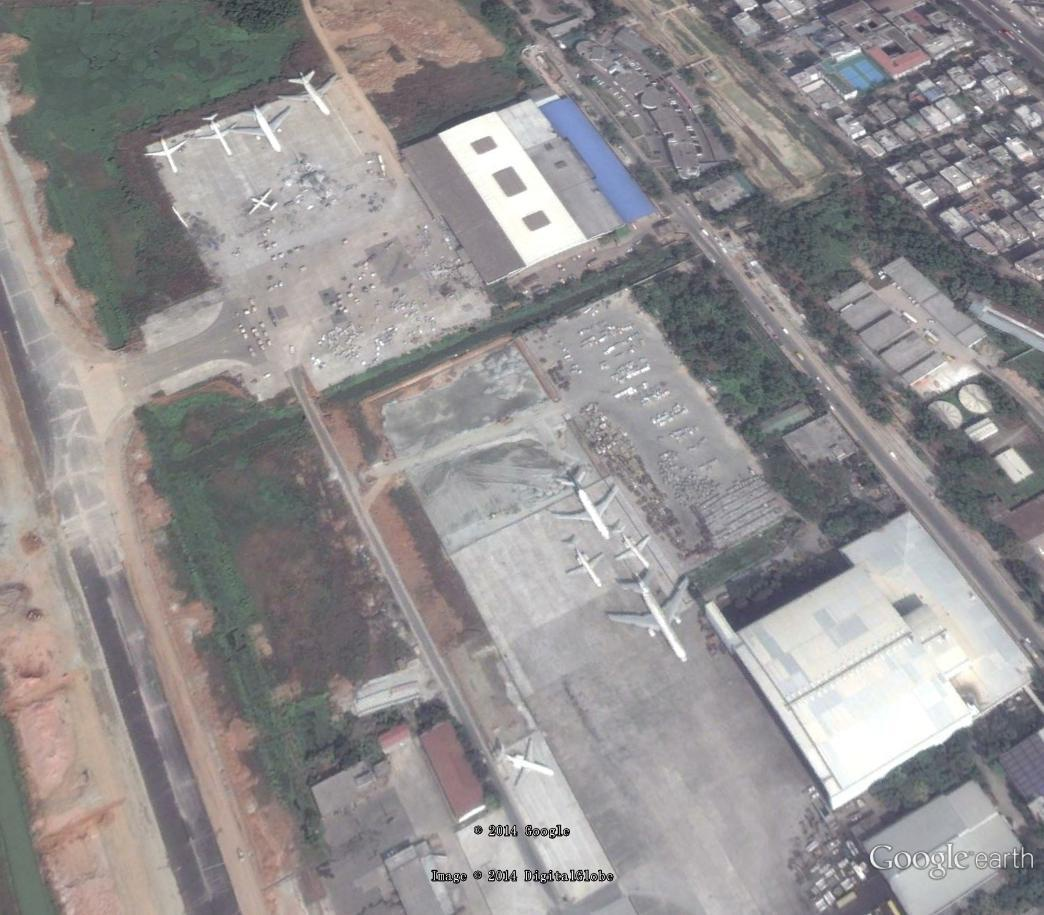aircraft: (601, 562, 694, 667), (549, 465, 624, 546), (219, 97, 297, 160), (492, 732, 558, 789), (277, 64, 342, 120), (562, 534, 613, 592), (609, 519, 657, 574), (190, 108, 241, 157), (142, 130, 189, 175), (243, 186, 285, 216)
